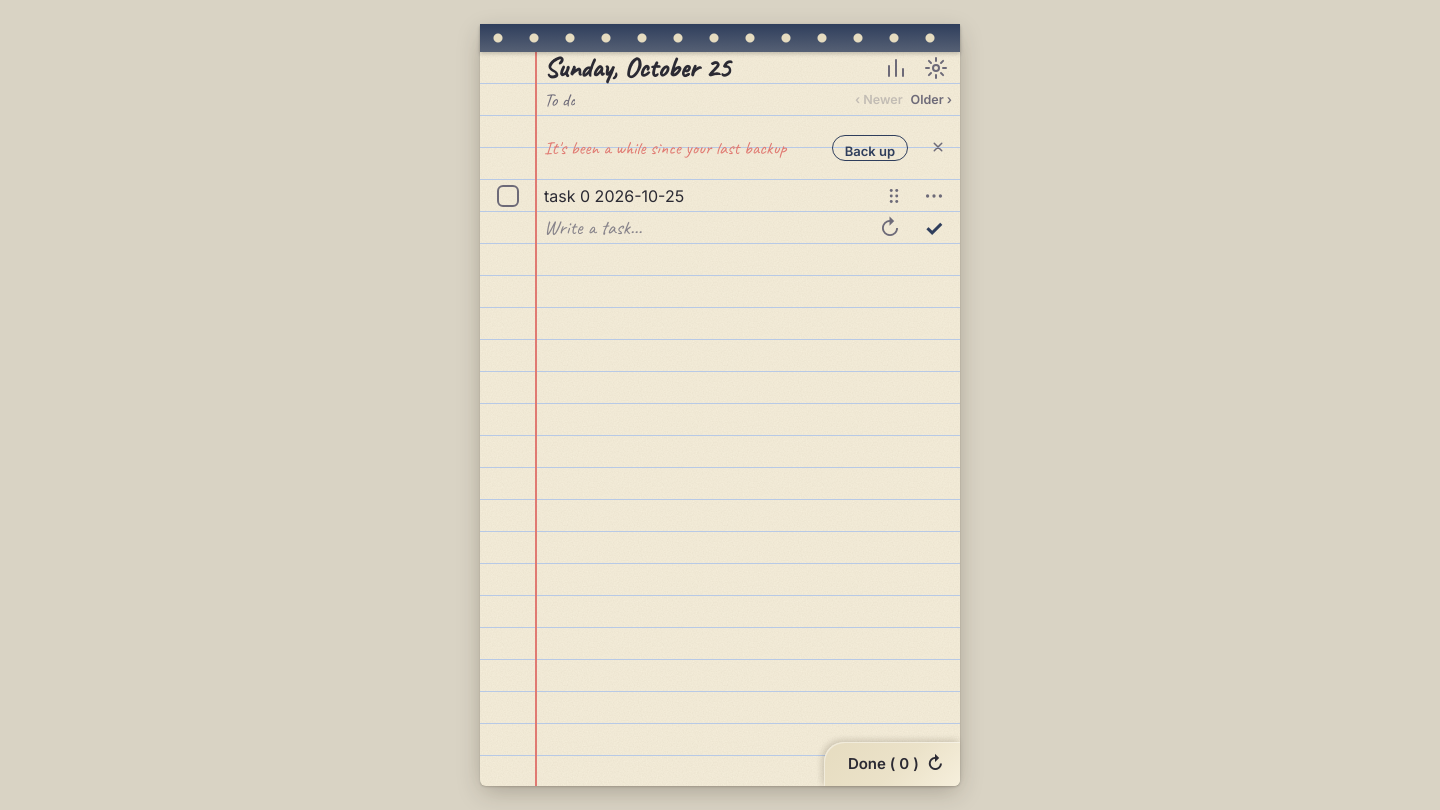
Scenario: the backup reminder › "Back up" opens Settings at Your data and hides the note
Click the button "Back up": click(870, 148) [832,135,908,161]
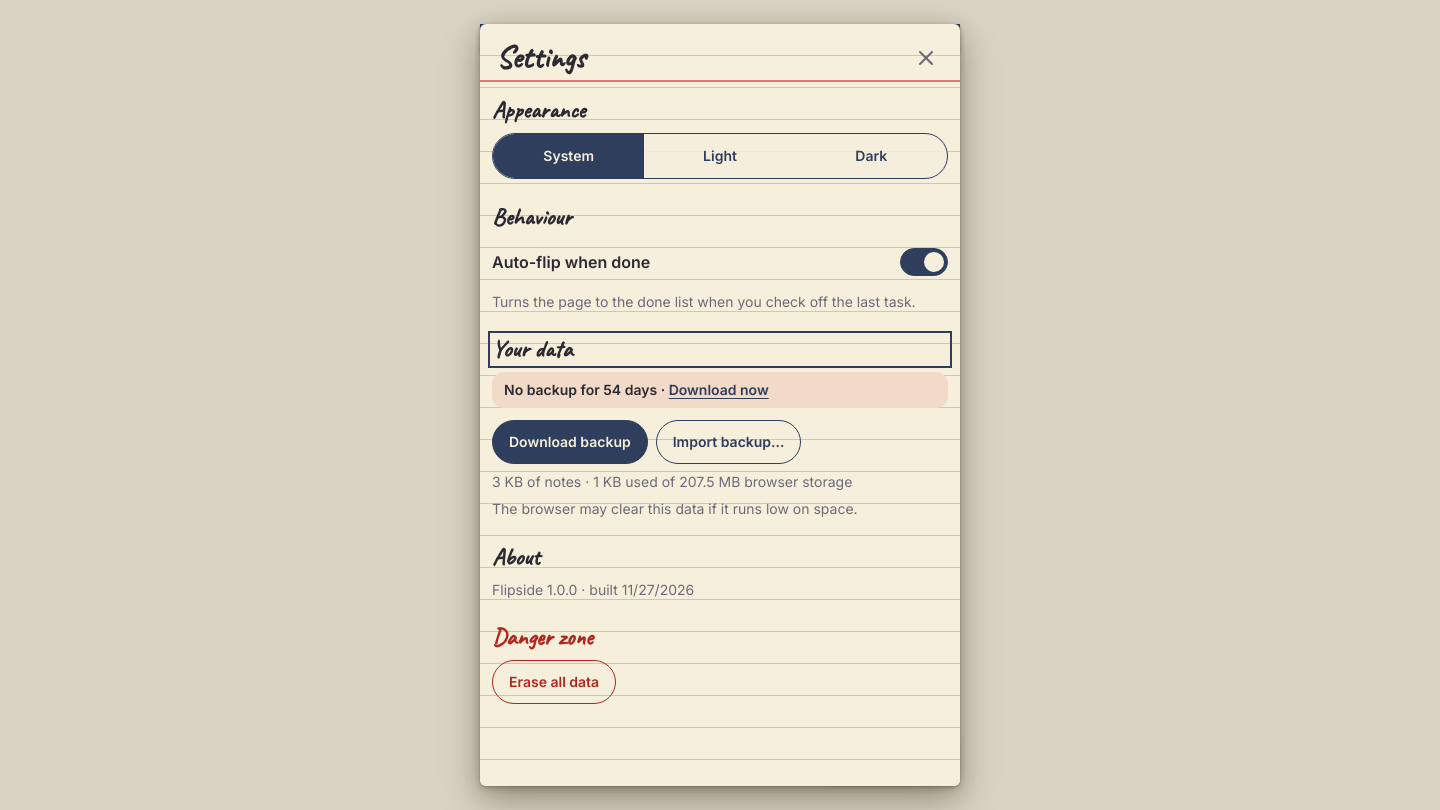
Now the dialog "Settings" is shown, box [480,24,960,786]
Now the text "No backup for 54 days · Download now" is shown, box [492,372,948,408]
Now the button "Download now" is shown, box [669,380,769,400]
